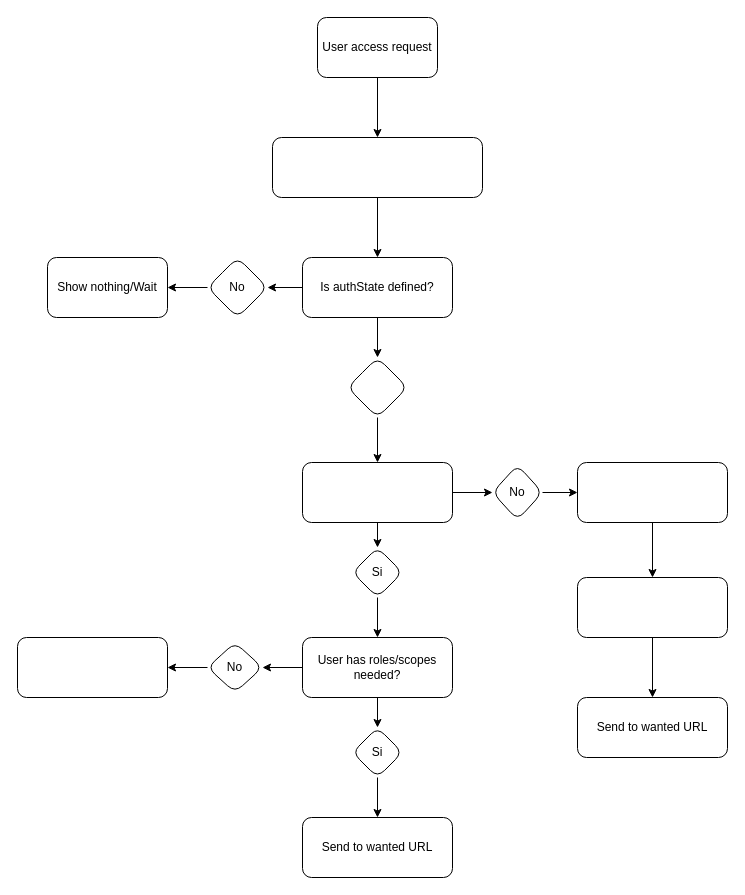
Some shapes in this 745 by 895 pixel diagram are drawn without their labels. The box of each missing label's shape, as (x1, y1, x2, y2) in pixels:
Is the user authenticated: (302, 462, 452, 522)
RequireRole/RequireScope: (272, 136, 482, 198)
Send to /403: (16, 636, 168, 698)
Send to Okta log-in page: (576, 462, 728, 522)
User loggs-in: (576, 576, 728, 638)
Yes: (346, 356, 408, 418)
